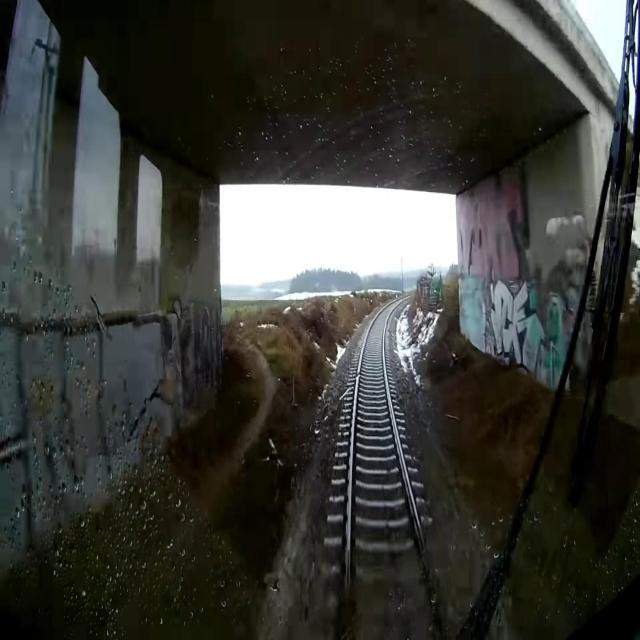rail-track: (350, 301, 447, 639)
